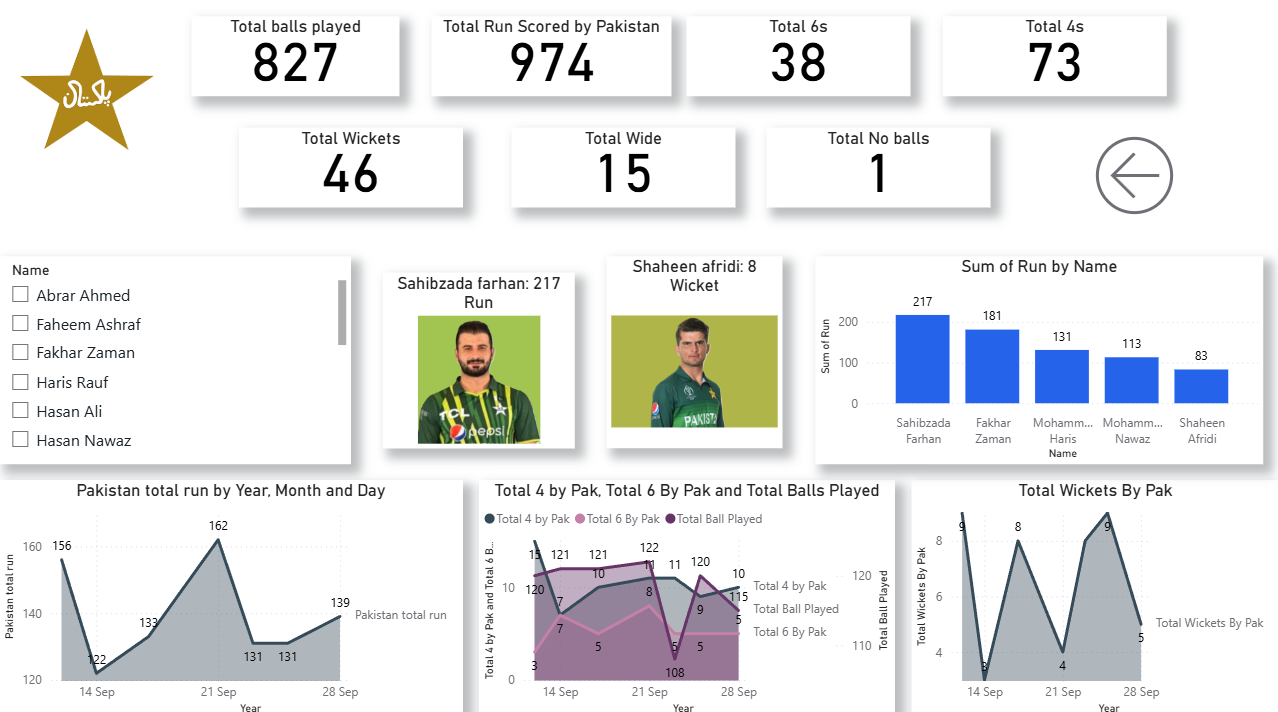

What the dashboard file says about the page in this screenshot:
{"tool":"powerbi","page":{"name":"Pakistan","canvas":[1280,720],"ordinal":4},"visuals":[{"type":"image","box":[16,16,144,144],"z":0},{"type":"card","title":"Total Run Scored by Pakistan","fields":{"Values":["New Mesures.Pakistan total run"]},"box":[432,16,240,80],"z":1000},{"type":"card","title":"Total balls played","fields":{"Values":["New Mesures.Total balls Played By Pakistan"]},"box":[192,16,208,80],"z":2000},{"type":"card","title":"Total 6s","fields":{"Values":["New Mesures.Total 6 By Pak"]},"box":[688,16,224,80],"z":3000},{"type":"card","title":"Total 4s","fields":{"Values":["New Mesures.Total 4 by Pak"]},"box":[944,16,224,80],"z":4000},{"type":"slicer","fields":{"Values":["Players.Name"]},"box":[0,256,352,208],"z":5000},{"type":"card","title":"Total Wickets","fields":{"Values":["New Mesures.Total Wickets By Pak"]},"box":[240,128,224,80],"z":6000},{"type":"lineChart","fields":{"Y":["New Mesures.Pakistan total run"],"Category":["Date.Date.Variation.Date Hierarchy.Year","Date.Date.Variation.Date Hierarchy.Month","Date.Date.Variation.Date Hierarchy.Day"]},"box":[0,480,464,240],"z":7000},{"type":"lineChart","title":"Total 4 by Pak, Total 6 By Pak and Total Balls Played ","fields":{"Y":["New Mesures.Total 4 by Pak","New Mesures.Total 6 By Pak"],"Y2":["Teams data.Total Ball Played"],"Category":["Date.Date.Variation.Date Hierarchy.Year","Date.Date.Variation.Date Hierarchy.Month","Date.Date.Variation.Date Hierarchy.Day"]},"box":[480,480,416,240],"z":8000},{"type":"lineChart","title":"Total Wickets By Pak","fields":{"Y":["New Mesures.Total Wickets By Pak"],"Category":["Date.Date.Variation.Date Hierarchy.Year","Date.Date.Variation.Date Hierarchy.Month","Date.Date.Variation.Date Hierarchy.Day"]},"box":[912,480,368,240],"z":9000},{"type":"clusteredColumnChart","fields":{"Category":["Players.Name"],"Y":["Sum(Bating.Run)"]},"box":[816,256,448,208],"z":10000},{"type":"image","title":"Shaheen afridi: 8 Wicket","box":[608,256,176,192],"z":11000},{"type":"image","title":"Sahibzada farhan: 217 Run","box":[384,272,192,176],"z":12000},{"type":"card","title":"Total Wide","fields":{"Values":["New Mesures.Total wide by pak"]},"box":[512,128,224,80],"z":13000},{"type":"card","title":"Total No balls","fields":{"Values":["New Mesures.Total No ball by Pak"]},"box":[768,128,224,80],"z":14000},{"type":"actionButton","box":[1088,128,112,96],"z":15000}]}

Visuals, with their boxes in screenshot pixels (x1, y1, x2, y2), scaled from the page's 1280x720 canvas onto the 1278x712 screenshot:
image: [x1=16, y1=16, x2=160, y2=158]
"Total Run Scored by Pakistan" card: [x1=431, y1=16, x2=671, y2=95]
"Total balls played" card: [x1=192, y1=16, x2=399, y2=95]
"Total 6s" card: [x1=687, y1=16, x2=911, y2=95]
"Total 4s" card: [x1=943, y1=16, x2=1166, y2=95]
slicer - Players.Name: [x1=0, y1=253, x2=351, y2=459]
"Total Wickets" card: [x1=240, y1=127, x2=463, y2=206]
lineChart - New Mesures.Pakistan total run x Date.Date.Variation.Date Hierarchy.Year: [x1=0, y1=475, x2=463, y2=711]
"Total 4 by Pak, Total 6 By Pak and Total Balls Played " lineChart: [x1=479, y1=475, x2=895, y2=711]
"Total Wickets By Pak" lineChart: [x1=911, y1=475, x2=1277, y2=711]
clusteredColumnChart - Players.Name x Sum(Bating.Run): [x1=815, y1=253, x2=1262, y2=459]
"Shaheen afridi: 8 Wicket" image: [x1=607, y1=253, x2=783, y2=443]
"Sahibzada farhan: 217 Run" image: [x1=383, y1=269, x2=575, y2=443]
"Total Wide" card: [x1=511, y1=127, x2=735, y2=206]
"Total No balls" card: [x1=767, y1=127, x2=990, y2=206]
actionButton: [x1=1086, y1=127, x2=1198, y2=222]
